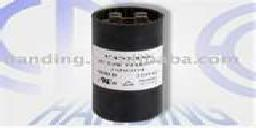Electrolytic-Capacitor: (85, 4, 173, 122)
